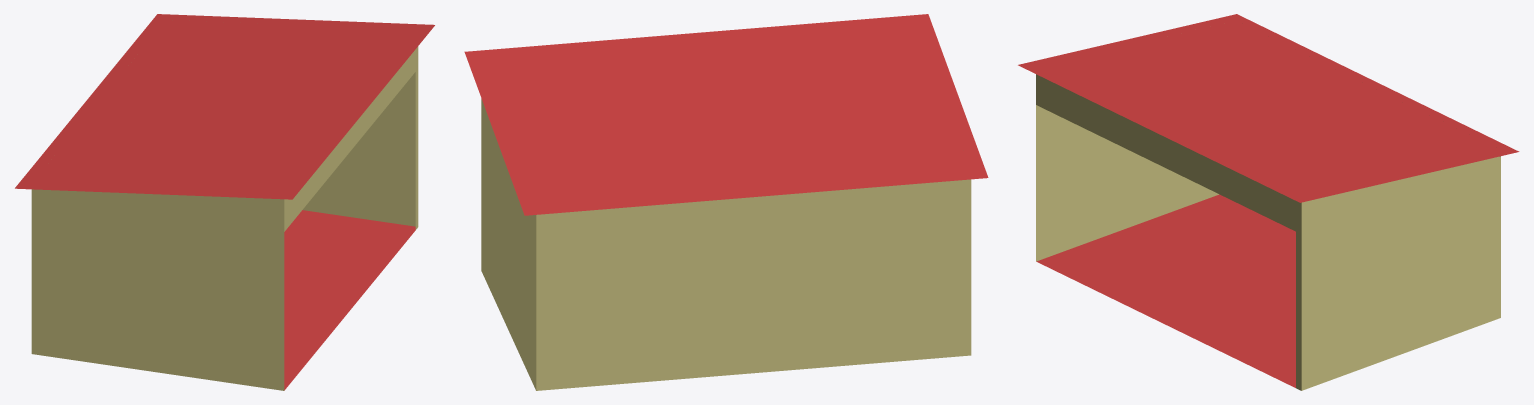
3 views of the same model, side by side, from view 1: azimuth 30°, elevation 25°; view 2: azimuth 150°, elevation 25°; view 3: azimuth 270°, elevation 25° (orthographic). The views are drawn at different scales.
Bounding box in the file's own units: 19.39 × 18.86 × 8.12.
